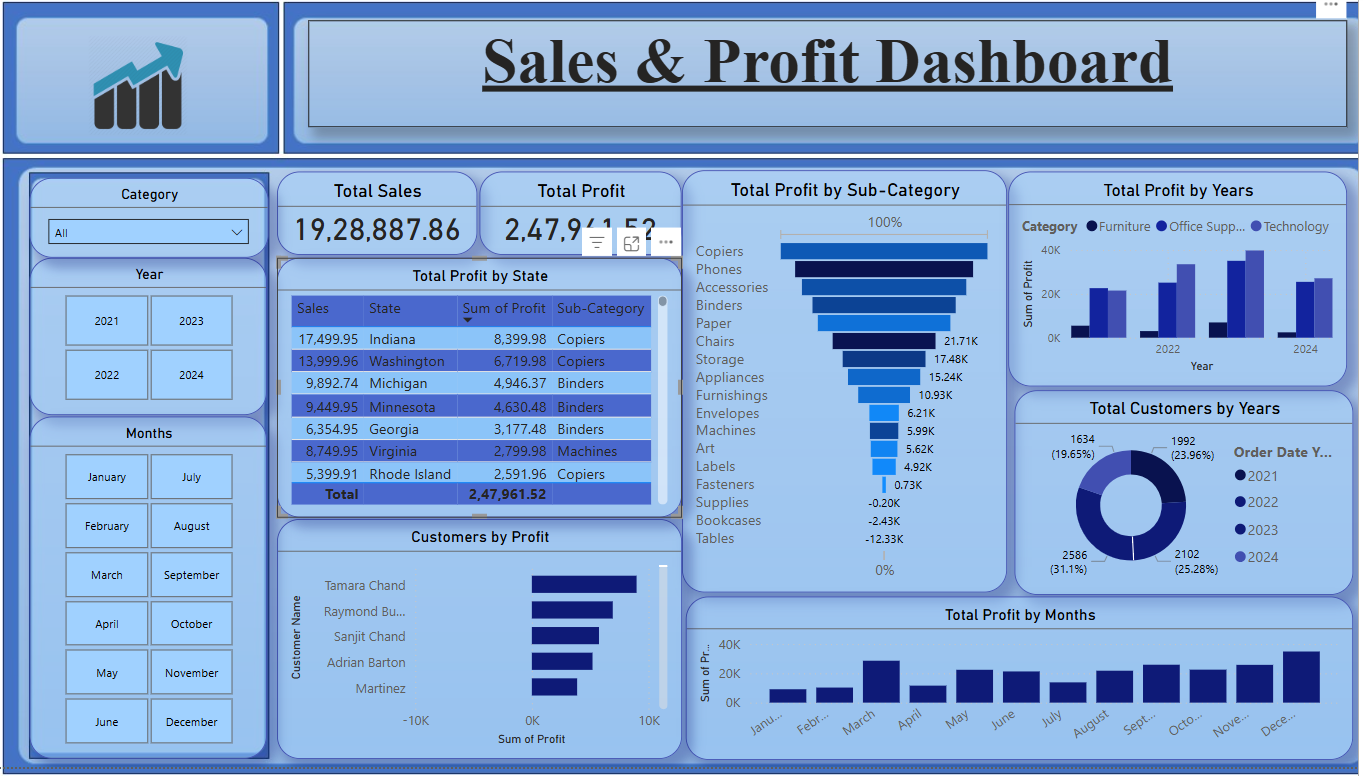

The dashboard page shown, as its layout file describes it:
{"tool":"powerbi","page":{"name":"Profit","canvas":[1280,720],"ordinal":1},"visuals":[{"type":"textbox","box":[303.5,24.4,966.3,100],"z":0},{"type":"image","box":[44.2,33.7,201.2,102.3],"z":1000},{"type":"card","title":"Total Sales","fields":{"Values":["Data.Sales"]},"box":[274.4,165.1,186,77.9],"z":2000},{"type":"card","title":"Total Profit","fields":{"Values":["Data.Profit"]},"box":[462.8,165.1,188.4,77.9],"z":3000},{"type":"funnel","title":"Total Profit by Sub-Category","fields":{"Category":["Data.Sub-Category"],"Y":["Data.Profit"]},"box":[651.2,164,302.3,393],"z":4000},{"type":"clusteredColumnChart","title":"Total Profit by Years","fields":{"Y":["Data.Profit"],"Category":["Data.Order Date.Variation.Date Hierarchy.Year"],"Series":["Data.Category"]},"box":[954.7,165.1,315.1,200],"z":5000},{"type":"donutChart","title":"Total Customers by Years","fields":{"Category":["Data.Order Date.Variation.Date Hierarchy.Year"],"Y":["Data.Customer Name"]},"box":[960.5,368.6,315.1,190.7],"z":6000},{"type":"clusteredColumnChart","title":"Total Profit by Months","fields":{"Y":["Data.Profit"],"Category":["Data.Order Date.Variation.Date Hierarchy.Month"]},"box":[654.7,560.5,620.9,152.3],"z":7000},{"type":"tableEx","title":"Total Profit by State","fields":{"Values":["Data.Sales","Data.State","Data.Profit","Data.Sub-Category"]},"box":[274.4,245.3,376.7,241.9],"z":8000},{"type":"barChart","title":"Customers by Profit","fields":{"Y":["Data.Profit"],"Category":["Data.Customer Name"]},"box":[274.4,488.4,376.7,223.3],"z":9000},{"type":"slicer","title":"Year","fields":{"Values":["Data.Order Date.Variation.Date Hierarchy.Year"]},"box":[44.2,245.3,220.9,146.5],"z":10000},{"type":"slicer","title":"Category","fields":{"Values":["Data.Category"]},"box":[44.2,170.9,222.1,74.4],"z":11000},{"type":"slicer","title":"Months","fields":{"Values":["Data.Order Date.Variation.Date Hierarchy.Month"]},"box":[44.2,393,220.9,318.6],"z":12000}]}

Visuals, with their boxes in screenshot pixels (x1, y1, x2, y2), scaled from the page's 1280x720 canvas onto the 1363x776 screenshot:
textbox: x1=323 y1=26 x2=1352 y2=134
image: x1=47 y1=36 x2=261 y2=147
"Total Sales" card: x1=292 y1=178 x2=490 y2=262
"Total Profit" card: x1=493 y1=178 x2=693 y2=262
"Total Profit by Sub-Category" funnel: x1=693 y1=177 x2=1015 y2=600
"Total Profit by Years" clusteredColumnChart: x1=1017 y1=178 x2=1352 y2=393
"Total Customers by Years" donutChart: x1=1023 y1=397 x2=1358 y2=603
"Total Profit by Months" clusteredColumnChart: x1=697 y1=604 x2=1358 y2=768
"Total Profit by State" tableEx: x1=292 y1=264 x2=693 y2=525
"Customers by Profit" barChart: x1=292 y1=526 x2=693 y2=767
"Year" slicer: x1=47 y1=264 x2=282 y2=422
"Category" slicer: x1=47 y1=184 x2=284 y2=264
"Months" slicer: x1=47 y1=424 x2=282 y2=767
